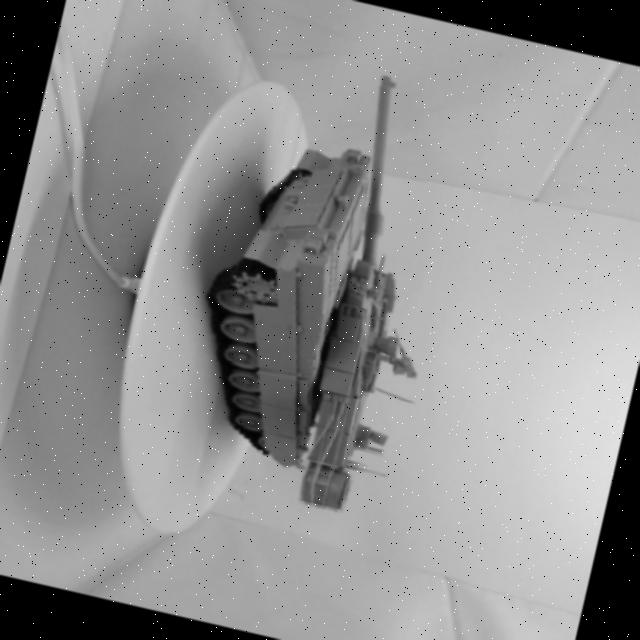korea tank: (153, 20, 502, 540)
